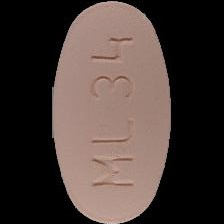63187-653: (0, 0, 224, 224)
